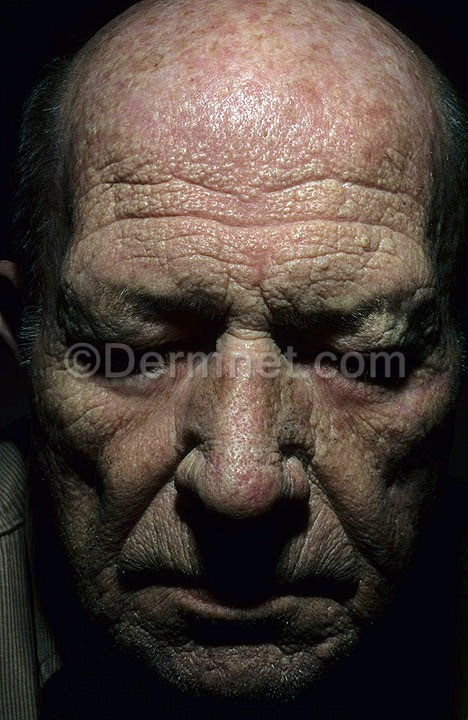Melasma: (111, 16, 394, 277), (101, 391, 432, 512)
